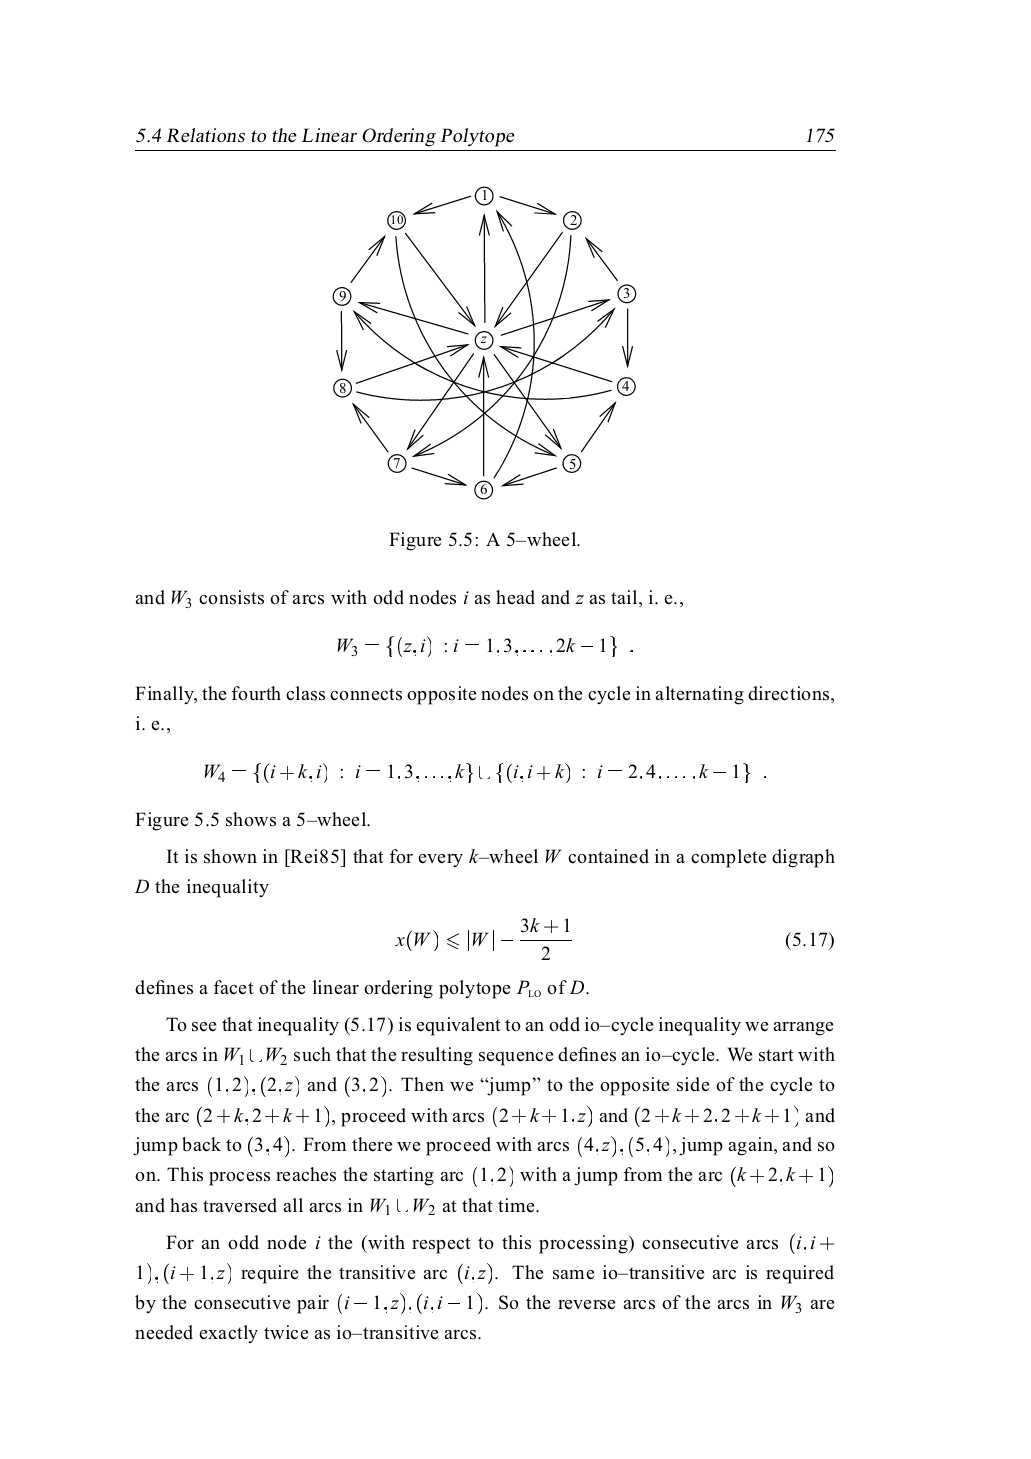figure: (333, 185, 636, 500)
formula: (395, 917, 834, 960), (204, 762, 765, 783), (337, 635, 632, 657)
